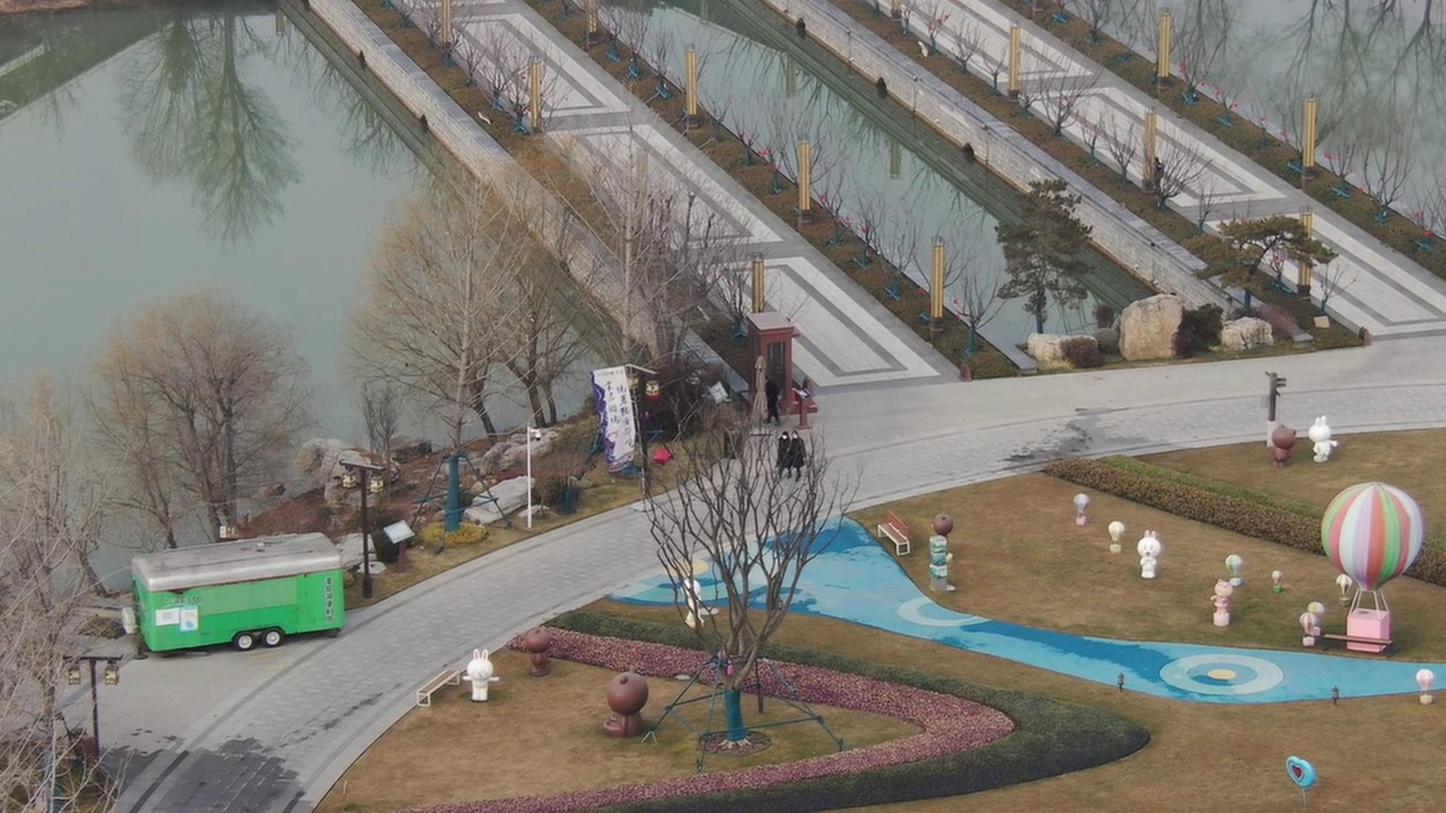class_2: (773, 431, 803, 491)
human: (753, 370, 779, 423)
